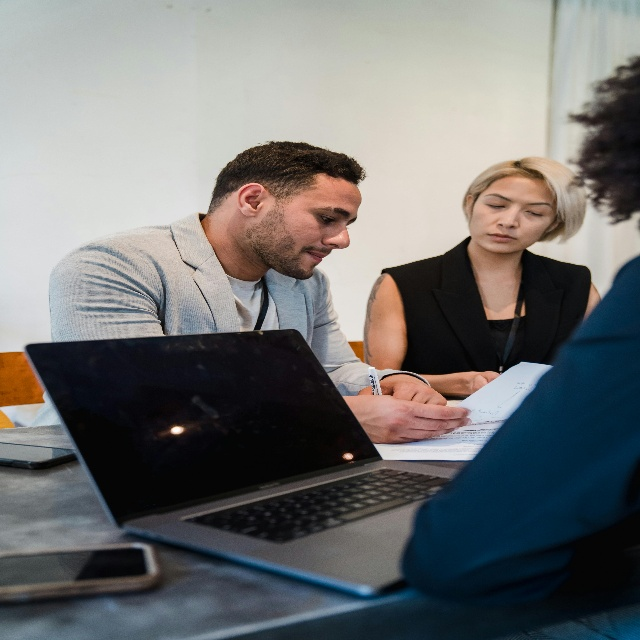Sin_guantes: (343, 394, 472, 445), (378, 379, 448, 407), (467, 370, 500, 395)
